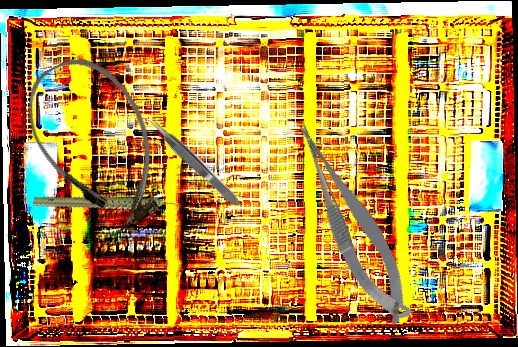Cannula: (7, 40, 186, 249)
Handpiece: (32, 165, 183, 245)
Micro Scissor: (287, 106, 420, 336)
Tissue Forceps: (143, 111, 244, 212)
